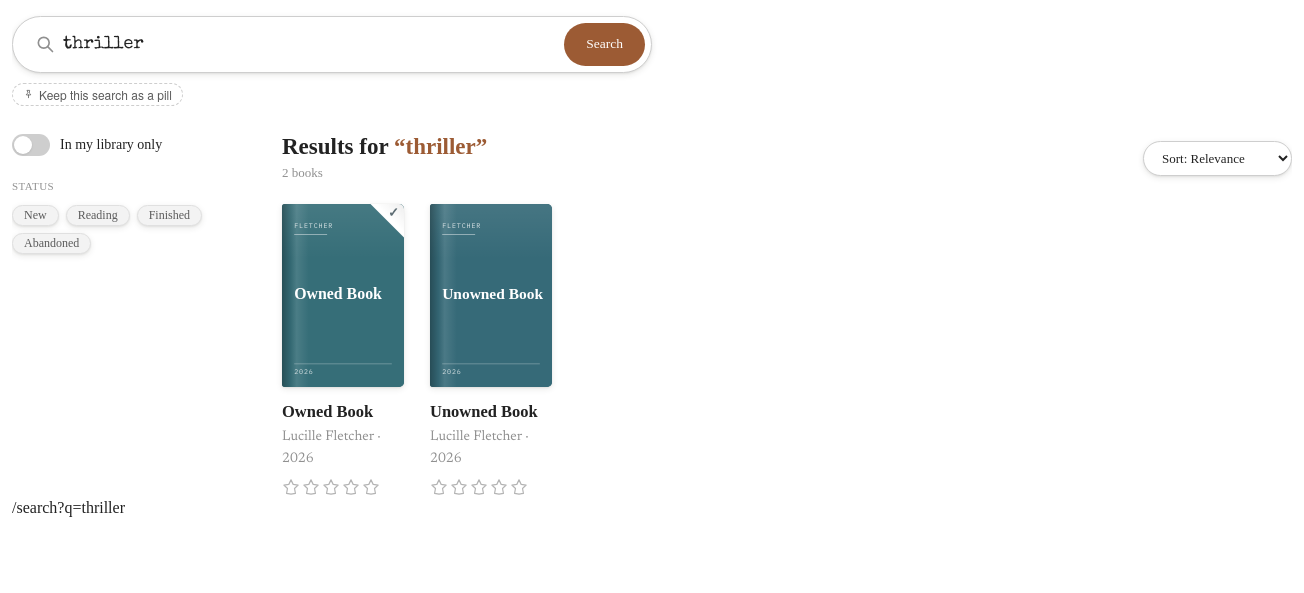
Scenario: SearchPage › applies inLibraryOnly client-side without refetching
This screenshot has width=1304, height=593.
Check: the button "Unowned Book" is shown, box [430, 204, 552, 496]
What coordinates should you click on to do the following:
click the switch "In my library only"
I would click on:
 (87, 145)
Its box is [12, 134, 162, 156].
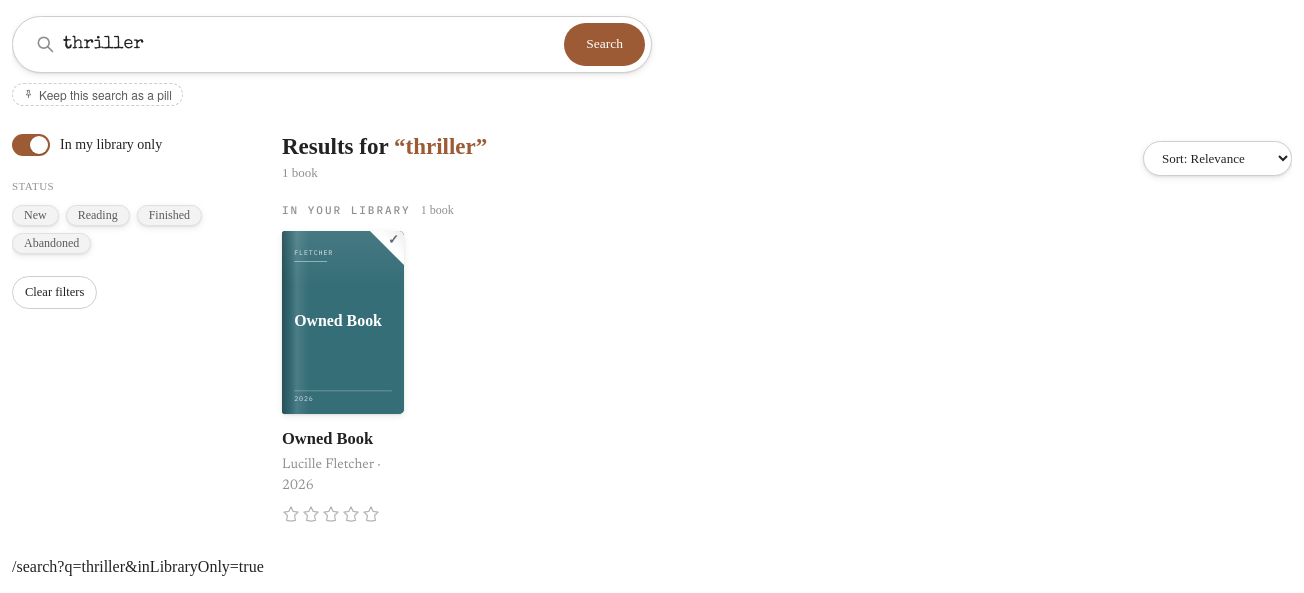
Check: the button "Owned Book" is shown, box [282, 231, 404, 523]
Check: the button "Unowned Book" is gone
